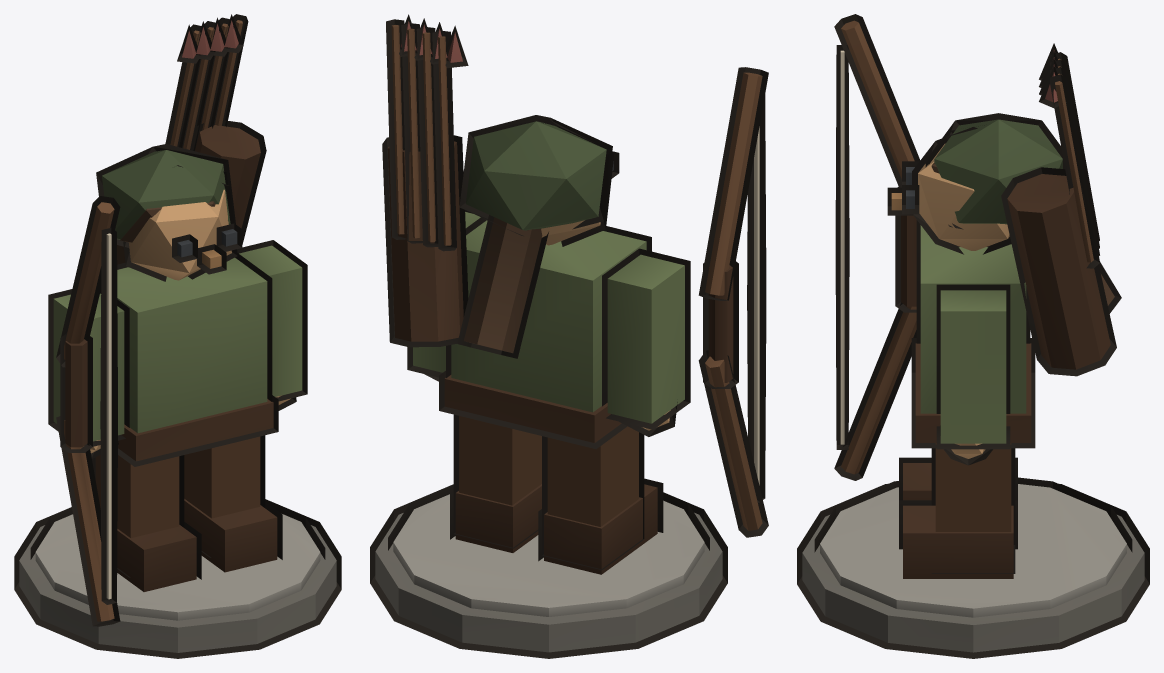
The model's file is pnj_archere.glb.
3 views of the same model, side by side, from view 1: azimuth 30°, elevation 25°; view 2: azimuth 150°, elevation 25°; view 3: azimuth 270°, elevation 25° (orthographic). The views are drawn at different scales.
Visible parts, largest first — view 1: pnj_archere, pnj_archere_outline; view 2: pnj_archere, pnj_archere_outline; view 3: pnj_archere, pnj_archere_outline.
Boxes of the visible parts, x1=… form: pnj_archere: x1=19, y1=20, x2=336, y2=652; pnj_archere_outline: x1=14, y1=14, x2=341, y2=658; pnj_archere: x1=375, y1=21, x2=762, y2=652; pnj_archere_outline: x1=370, y1=14, x2=768, y2=658; pnj_archere: x1=802, y1=20, x2=1144, y2=652; pnj_archere_outline: x1=797, y1=14, x2=1149, y2=658.
Bounding box in the file's own units: 0.7012 × 1.24 × 0.7012.
